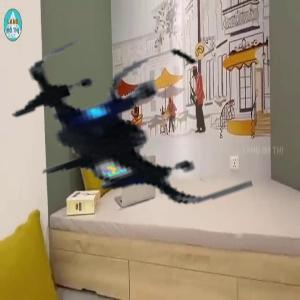drone: (15, 27, 230, 242)
